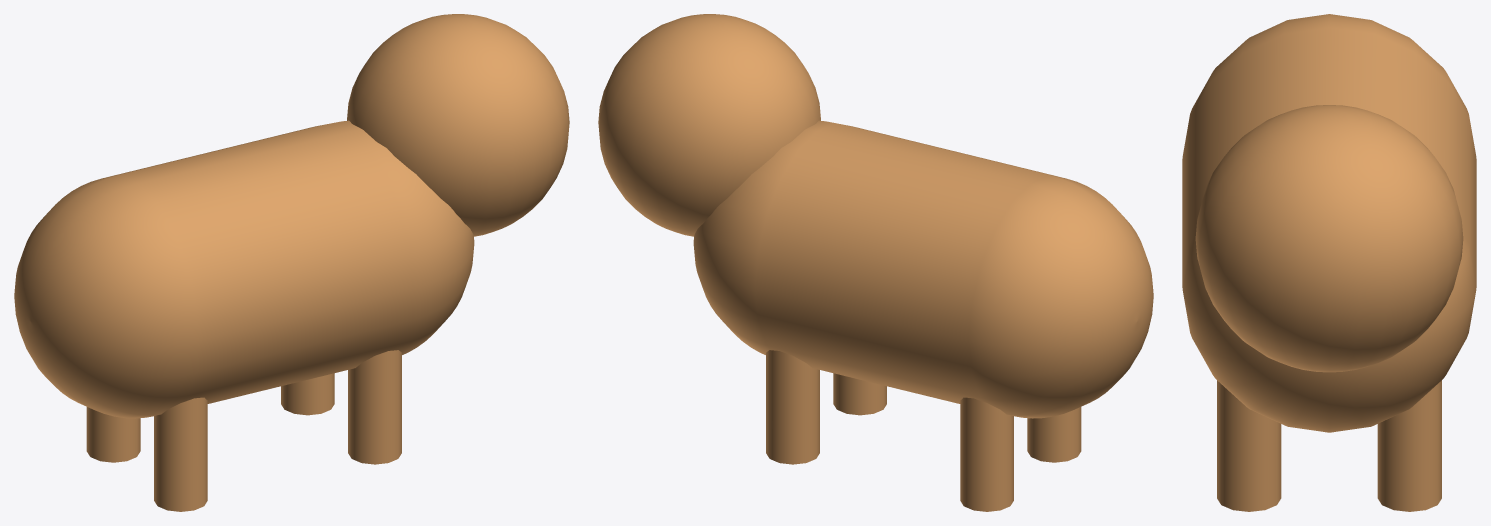
Rendered from aso.glb.
3 views of the same model, side by side, from view 1: azimuth 30°, elevation 25°; view 2: azimuth 150°, elevation 25°; view 3: azimuth 270°, elevation 25° (orthographic). The views are drawn at different scales.
Size of the model in its own units: 2.7 by 1.85 by 1.1.
